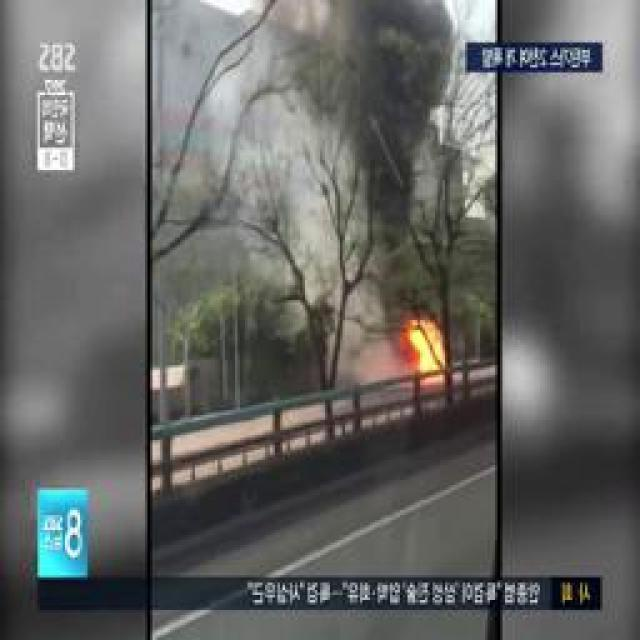Fire: (402, 319, 455, 383)
